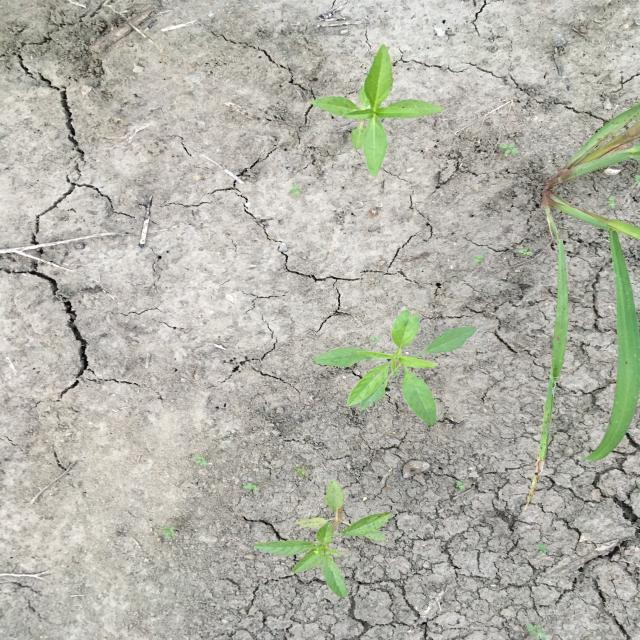Eclipta: (308, 42, 444, 178)
Waterhemp: (312, 309, 477, 427), (252, 480, 394, 600)
